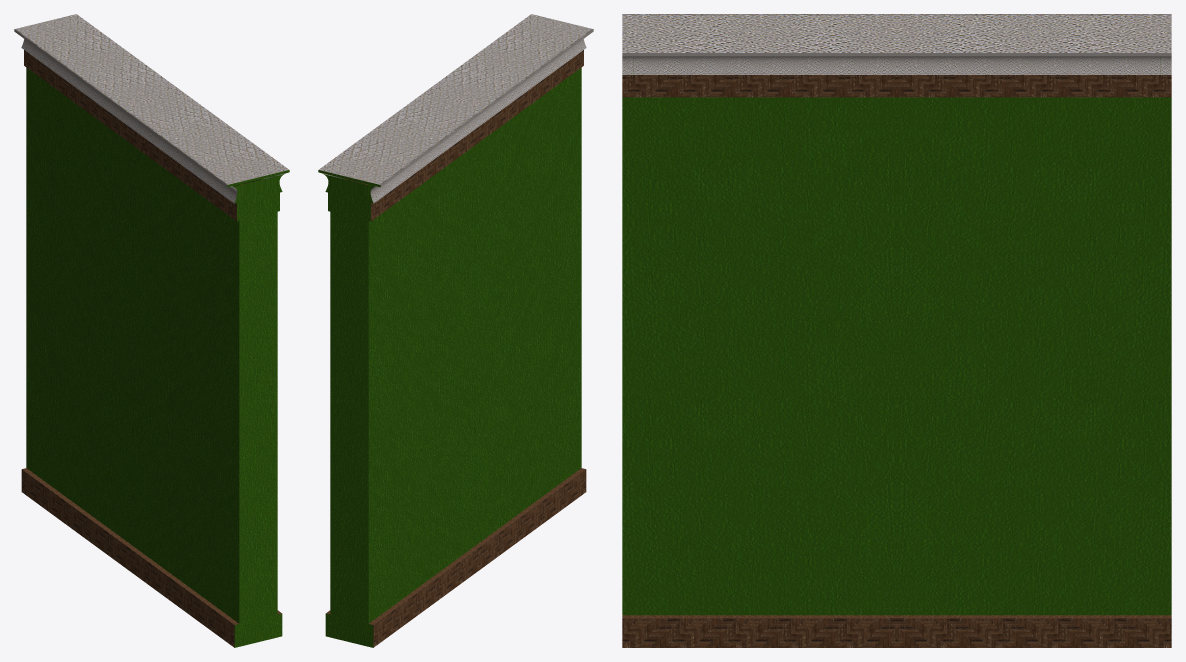
File: MidWal.fbx
3 renders of one model, left to right at view 1: azimuth 30°, elevation 25°; view 2: azimuth 150°, elevation 25°; view 3: azimuth 270°, elevation 25°, orthographic. The views are drawn at different scales.
Visible parts, largest first — view 1: midWall; view 2: midWall; view 3: midWall.
Part boxes in pixels (<box>): midWall: <box>14,14,289,647</box>; midWall: <box>318,14,593,647</box>; midWall: <box>622,14,1171,647</box>.
Bounding box in the file's own units: 1.69 × 12.04 × 10.
